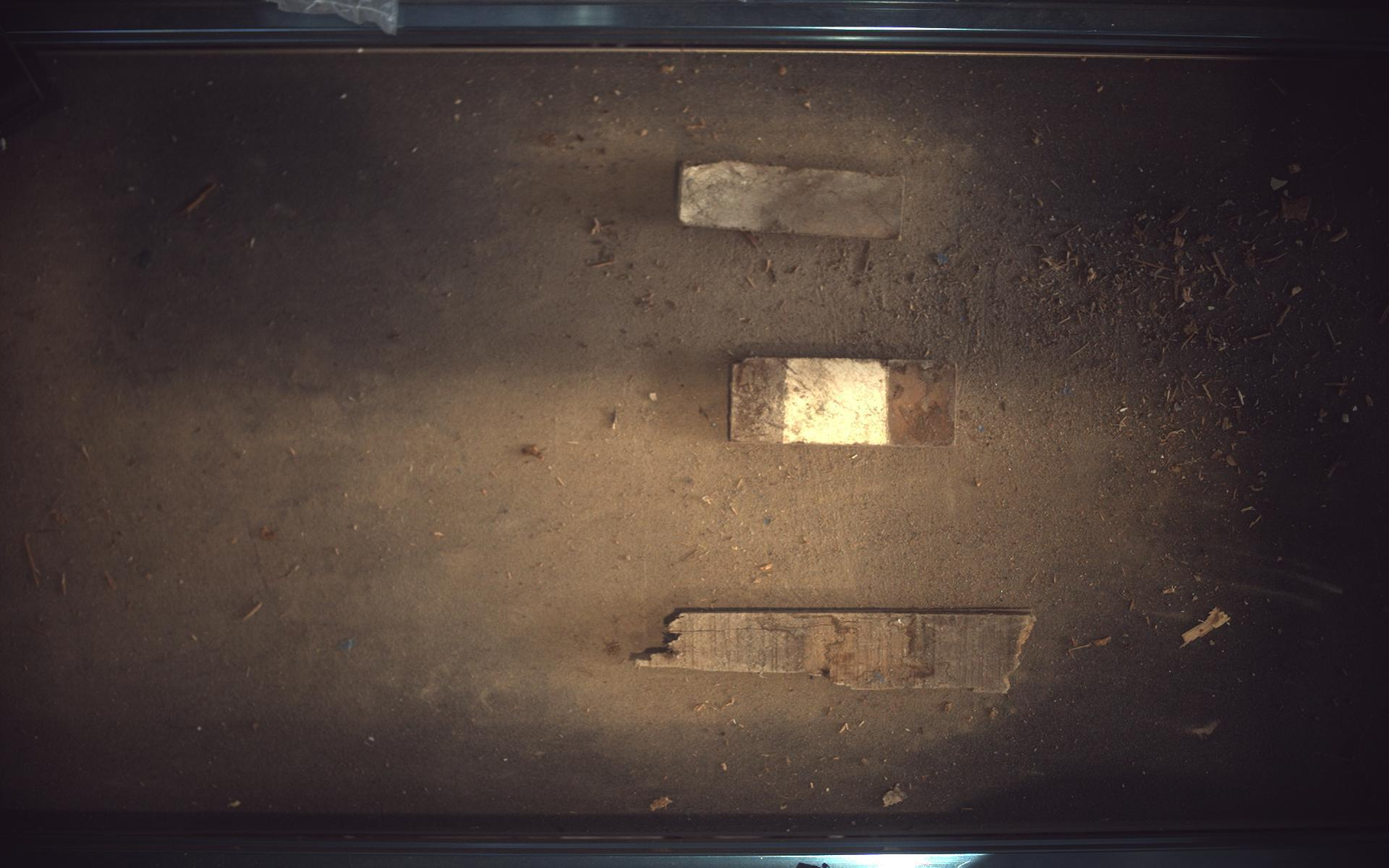wood: (637, 611, 1037, 694), (731, 357, 959, 446), (679, 160, 906, 238)
